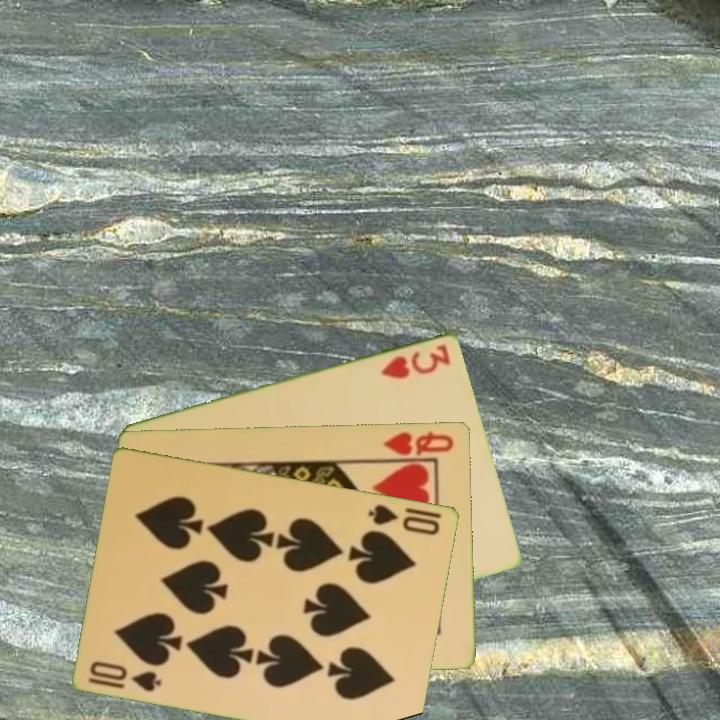10s: (365, 500, 443, 538), (85, 657, 165, 694)
3h: (377, 340, 454, 381)
Qh: (380, 428, 457, 458)
